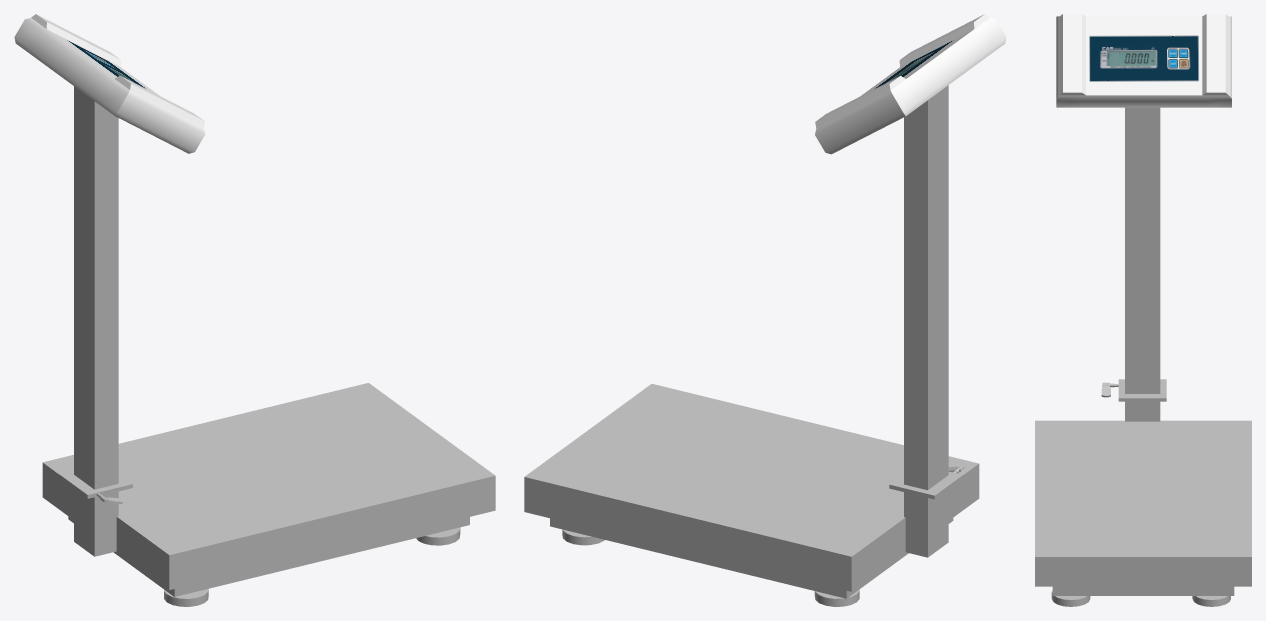
The model's file is Bascula 1.FBX.
3 renders of one model, left to right at view 1: azimuth 30°, elevation 25°; view 2: azimuth 150°, elevation 25°; view 3: azimuth 270°, elevation 25°, orthographic. The views are drawn at different scales.
Parts seen in each view (by area): view 1: Metal_2_bascula_3, Metal_bascula_3, Tablero_bascula_3, Cromo_bascula_3; view 2: Metal_2_bascula_3, Metal_bascula_3, Tablero_bascula_3, Cromo_bascula_3; view 3: Metal_2_bascula_3, Tablero_bascula_3, Metal_bascula_3, Cromo_bascula_3.
Boxes of the visible parts, x1,y1,x2,y2 form: Metal_2_bascula_3: [42, 383, 495, 589]; Metal_bascula_3: [59, 86, 469, 596]; Tablero_bascula_3: [14, 14, 205, 153]; Cromo_bascula_3: [96, 493, 460, 606]; Metal_2_bascula_3: [524, 384, 979, 591]; Metal_bascula_3: [550, 85, 964, 598]; Tablero_bascula_3: [815, 14, 1006, 154]; Cromo_bascula_3: [562, 465, 962, 606]; Metal_2_bascula_3: [1035, 420, 1251, 586]; Tablero_bascula_3: [1056, 14, 1231, 107]; Metal_bascula_3: [1052, 107, 1234, 595]; Cromo_bascula_3: [1051, 383, 1230, 606].
Size of the model in its own units: 0.6586 by 0.9137 by 0.395.
